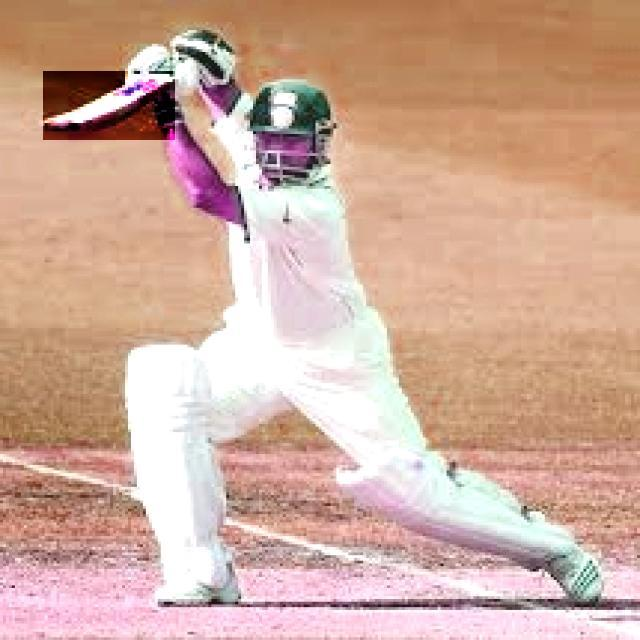bat: (44, 70, 178, 137)
